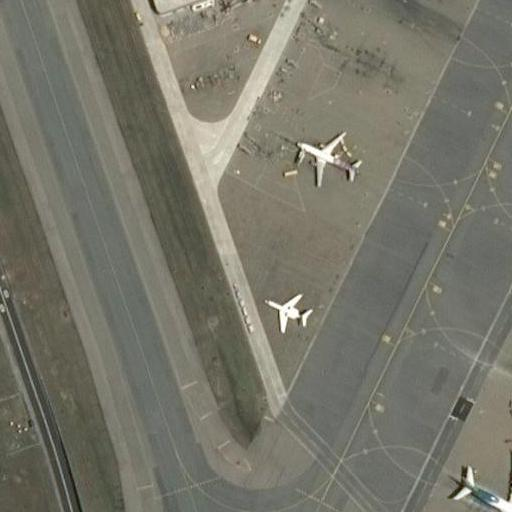Aircraft: (277, 123, 367, 183), (439, 441, 512, 512), (290, 125, 364, 188), (443, 449, 512, 512), (253, 281, 318, 333), (259, 286, 315, 334), (507, 367, 512, 437)
